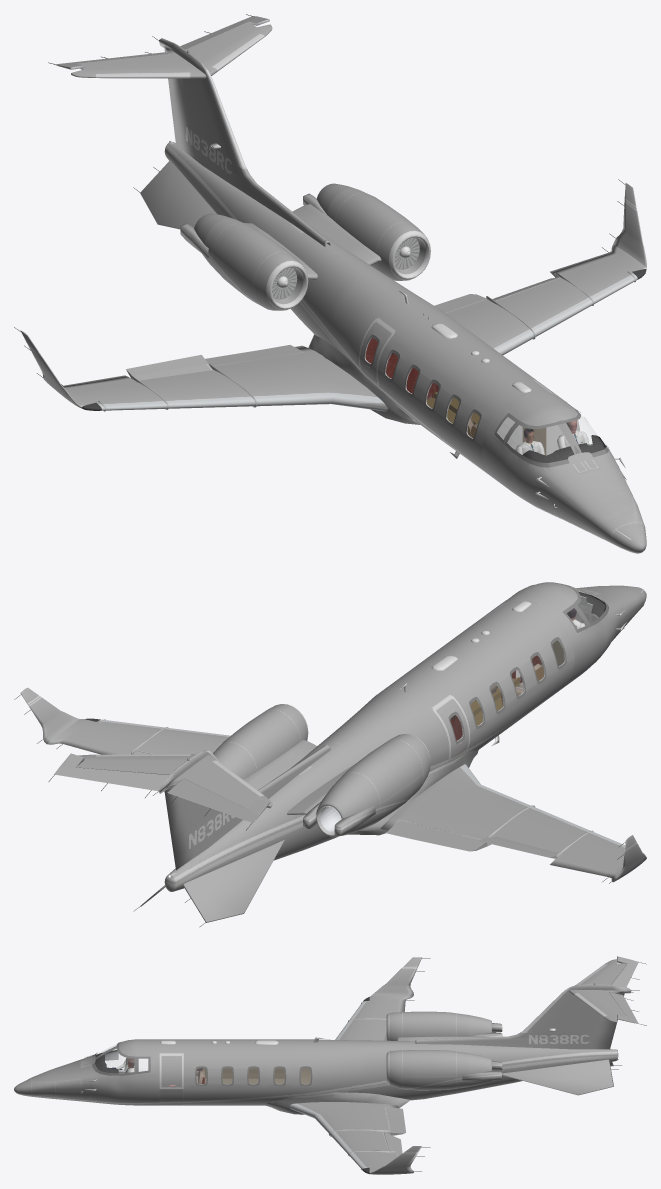
Rendered from global8000.glb.
The picture shows the model from 3 angles, top to bottom: view 1: azimuth 30°, elevation 25°; view 2: azimuth 150°, elevation 25°; view 3: azimuth 270°, elevation 25°; orthographic projection. The views are drawn at different scales.
Visible parts, largest first — view 1: Object_35, Object_61, Object_73, Object_71, Object_29, Object_59, Object_81, Object_87, Object_33, Object_27, Object_111, Object_83 (+1 smaller); view 2: Object_35, Object_61, Object_73, Object_59, Object_71, Object_29, Object_81, Object_87, Object_33; view 3: Object_35, Object_73, Object_71, Object_29, Object_61, Object_59, Object_81, Object_87, Object_33, Object_67.
Part boxes in pixels (bbox=[...]): Object_35: bbox=[140, 142, 646, 553]; Object_61: bbox=[20, 330, 387, 411]; Object_73: bbox=[180, 183, 430, 310]; Object_71: bbox=[434, 183, 646, 355]; Object_29: bbox=[159, 38, 642, 551]; Object_59: bbox=[54, 16, 559, 277]; Object_81: bbox=[365, 338, 604, 462]; Object_87: bbox=[363, 334, 608, 467]; Object_33: bbox=[365, 338, 546, 455]; Object_27: bbox=[364, 338, 579, 455]; Object_111: bbox=[272, 237, 419, 299]; Object_83: bbox=[515, 420, 589, 454]; Object_35: bbox=[140, 582, 646, 922]; Object_61: bbox=[380, 764, 646, 882]; Object_73: bbox=[213, 704, 430, 836]; Object_59: bbox=[54, 750, 491, 846]; Object_71: bbox=[20, 687, 230, 754]; Object_29: bbox=[159, 590, 643, 876]; Object_81: bbox=[450, 590, 604, 740]; Object_87: bbox=[448, 582, 608, 744]; Object_33: bbox=[450, 640, 564, 740]; Object_35: bbox=[14, 1028, 618, 1114]; Object_73: bbox=[386, 1011, 502, 1090]; Object_71: bbox=[289, 1102, 421, 1174]; Object_29: bbox=[28, 984, 631, 1085]; Object_61: bbox=[302, 957, 422, 1079]; Object_59: bbox=[384, 956, 638, 1134]; Object_81: bbox=[95, 1045, 310, 1083]; Object_87: bbox=[92, 1042, 312, 1086]; Object_33: bbox=[197, 1068, 310, 1083]; Object_67: bbox=[329, 1001, 404, 1170].
Bounding box in the file's own units: 12.8 × 3.87 × 18.1.
Materials: 31 (24 with a texture image).
